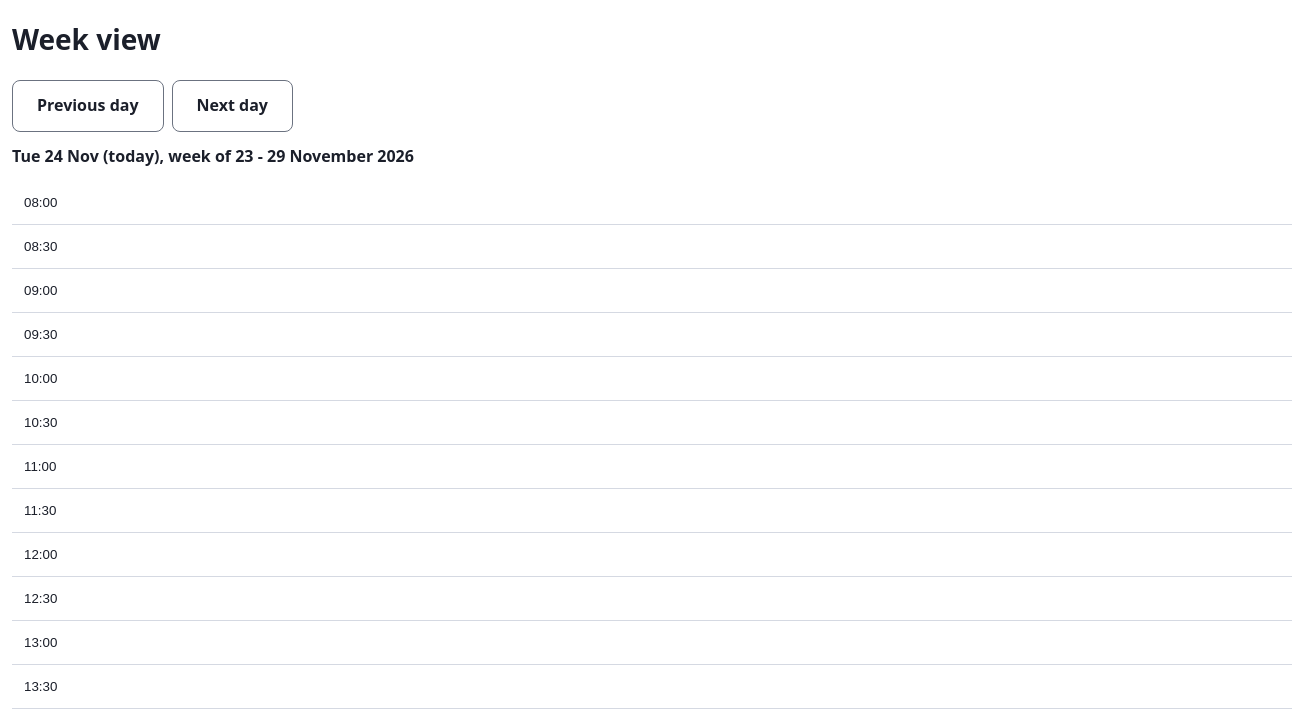
Test: SelectableTimeGrid on a narrow screen › moves to Monday when Next day crosses into the following week
Later steps or results of the test are not shown.
What coordinates should you click on to do the following:
click the button "Next day"
I would click on:
 (232, 106)
Its box is [172, 80, 293, 132].
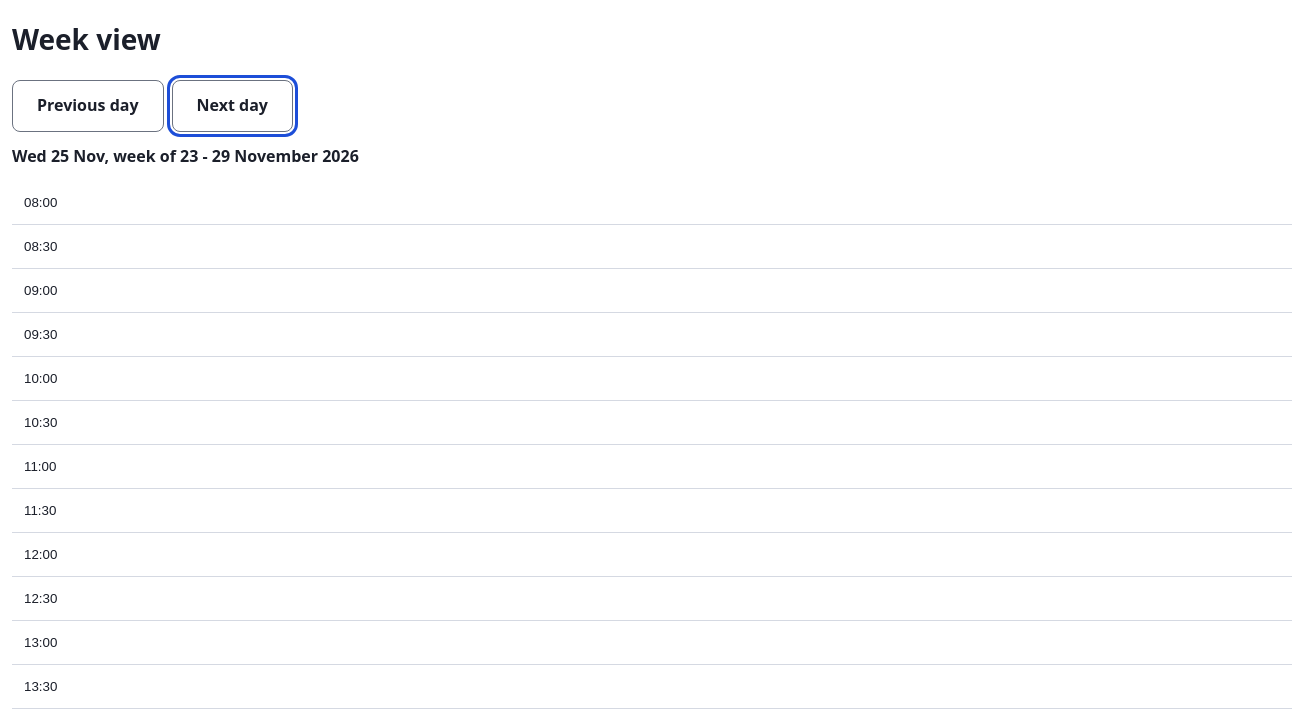
What coordinates should you click on to do the following:
click the button "Next day"
I would click on:
 (232, 106)
Its box is [172, 80, 293, 132].
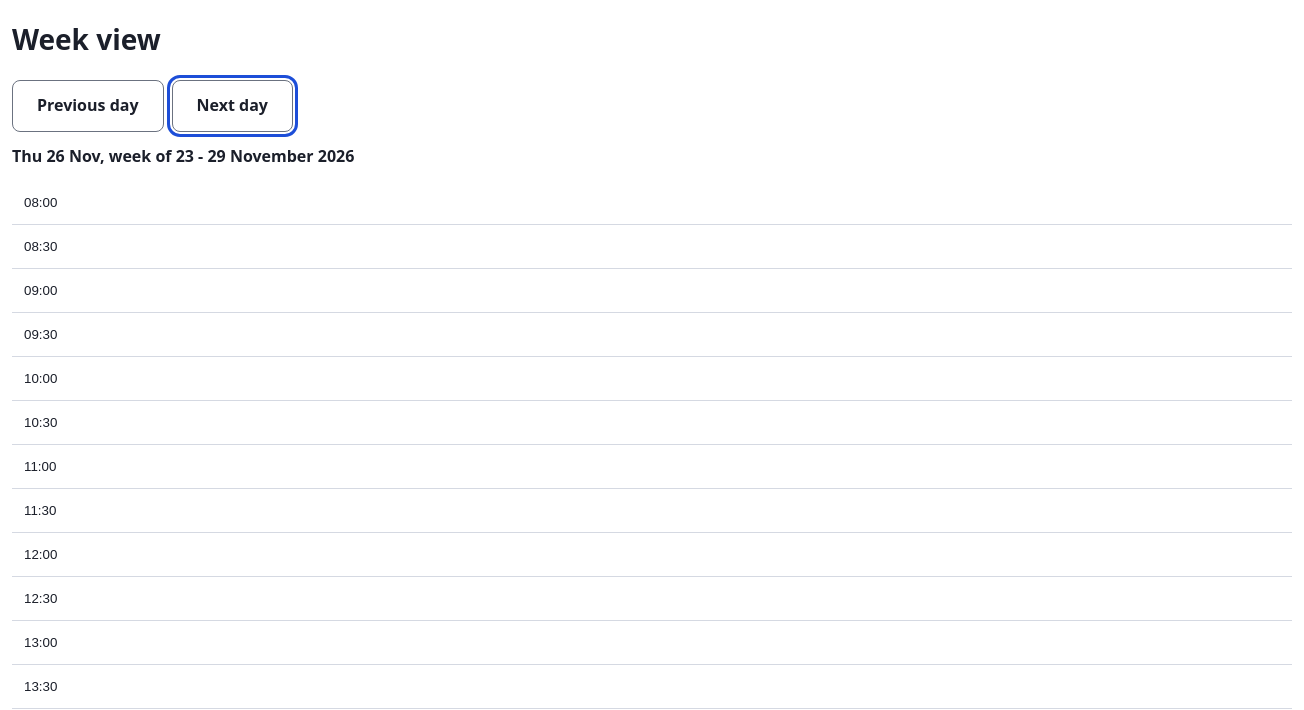
What coordinates should you click on to do the following:
click the button "Next day"
I would click on:
 (232, 106)
Its box is [172, 80, 293, 132].
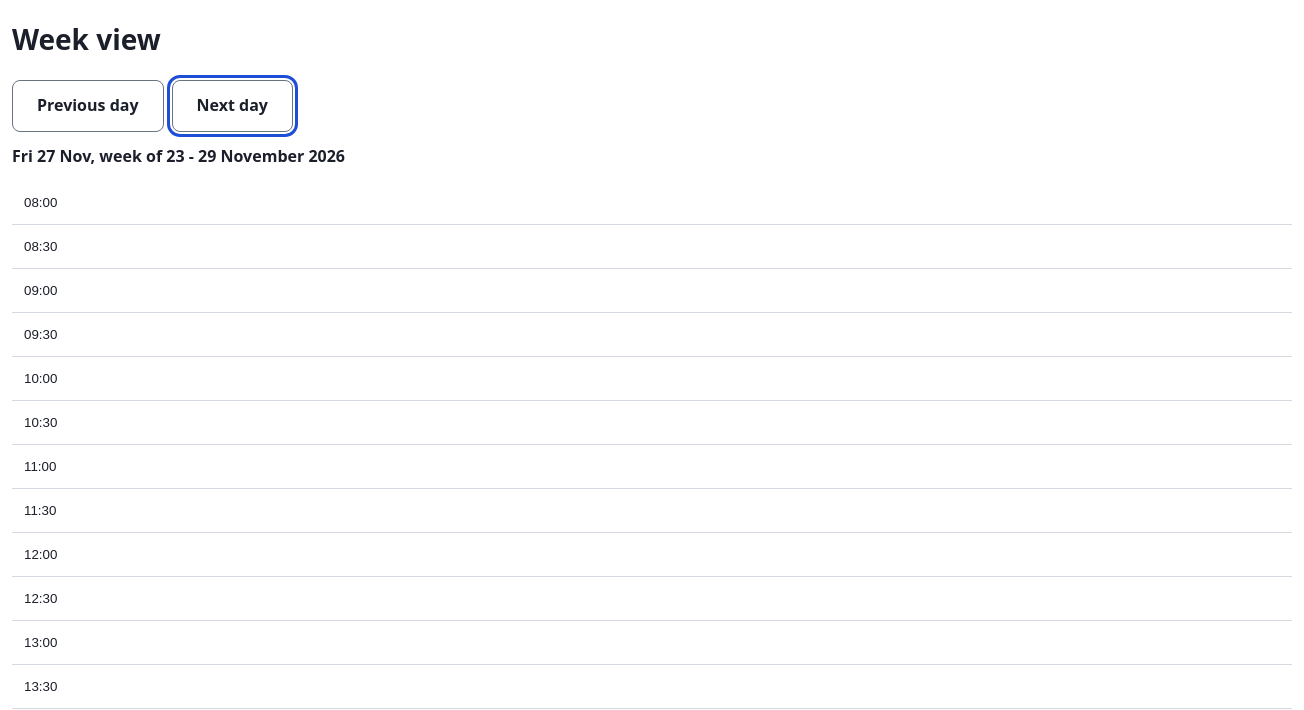
What coordinates should you click on to do the following:
click the button "Next day"
I would click on:
 (232, 106)
Its box is [172, 80, 293, 132].
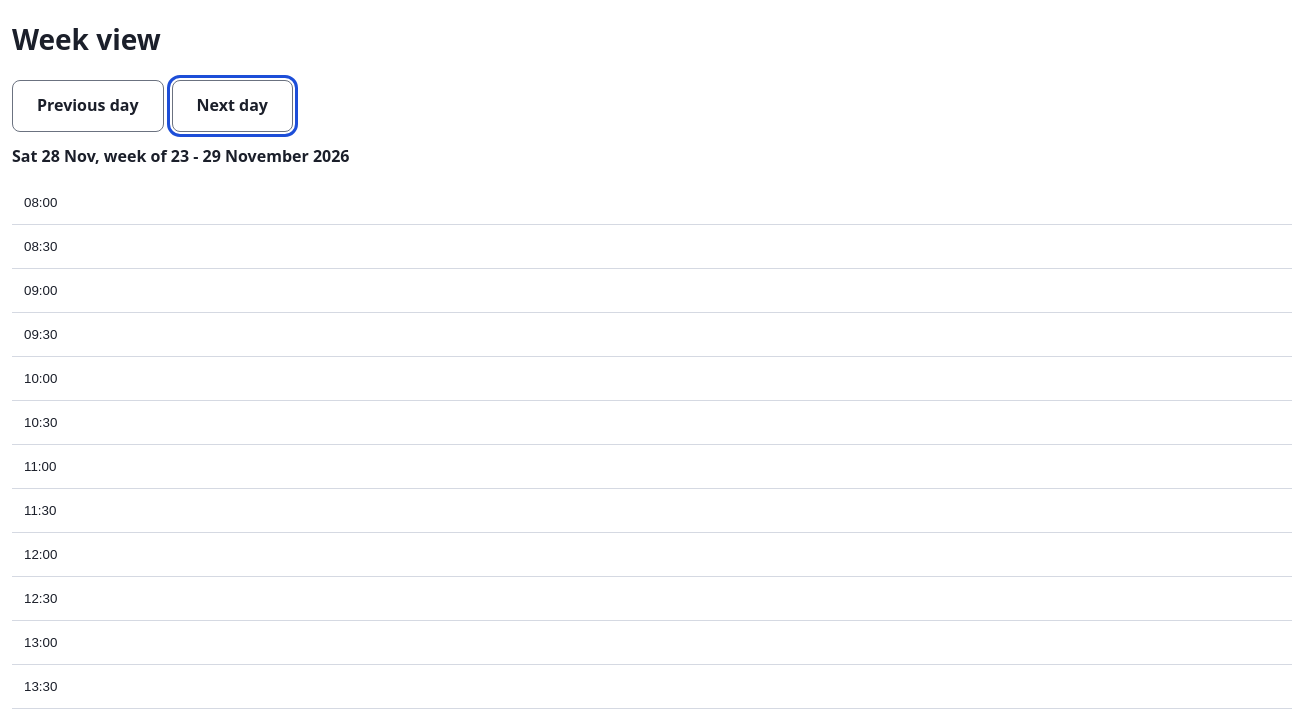
What coordinates should you click on to do the following:
click the button "Next day"
I would click on:
 (232, 106)
Its box is [172, 80, 293, 132].
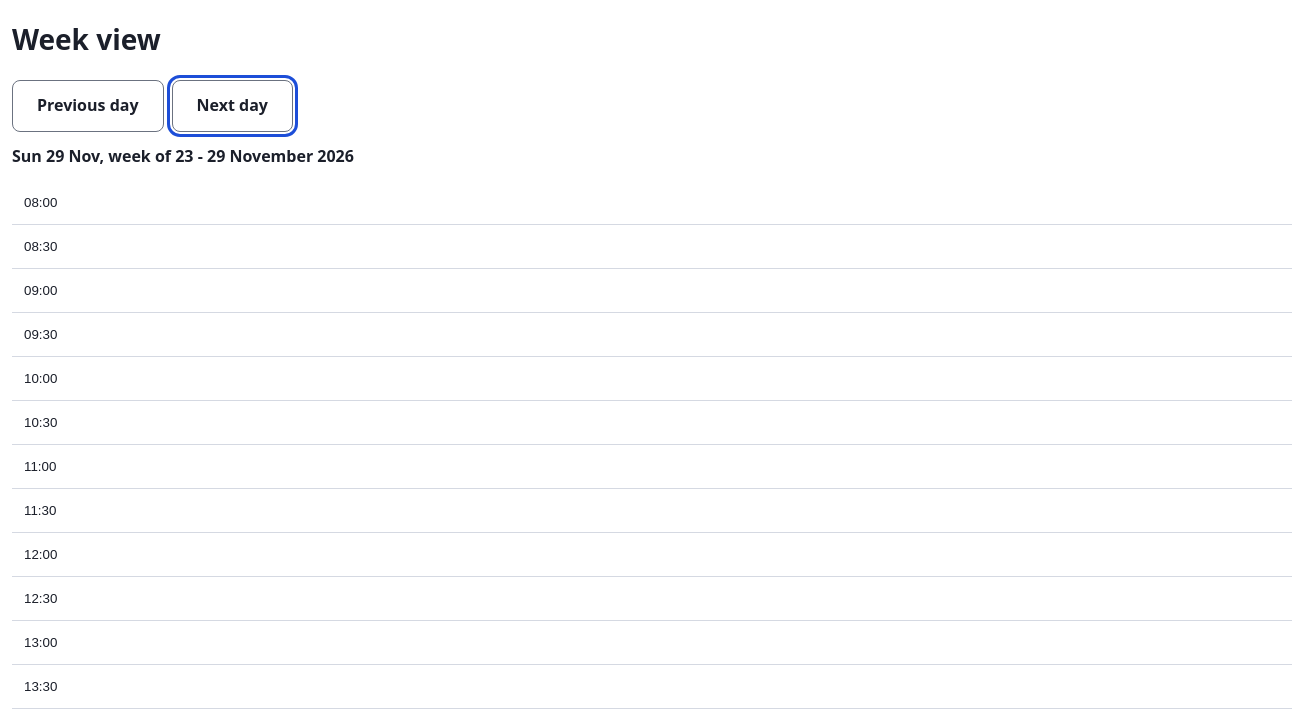
Expected: the text "Sun 29 Nov, week of 23 - 29 November 2026" is shown, [12, 145, 354, 167]
